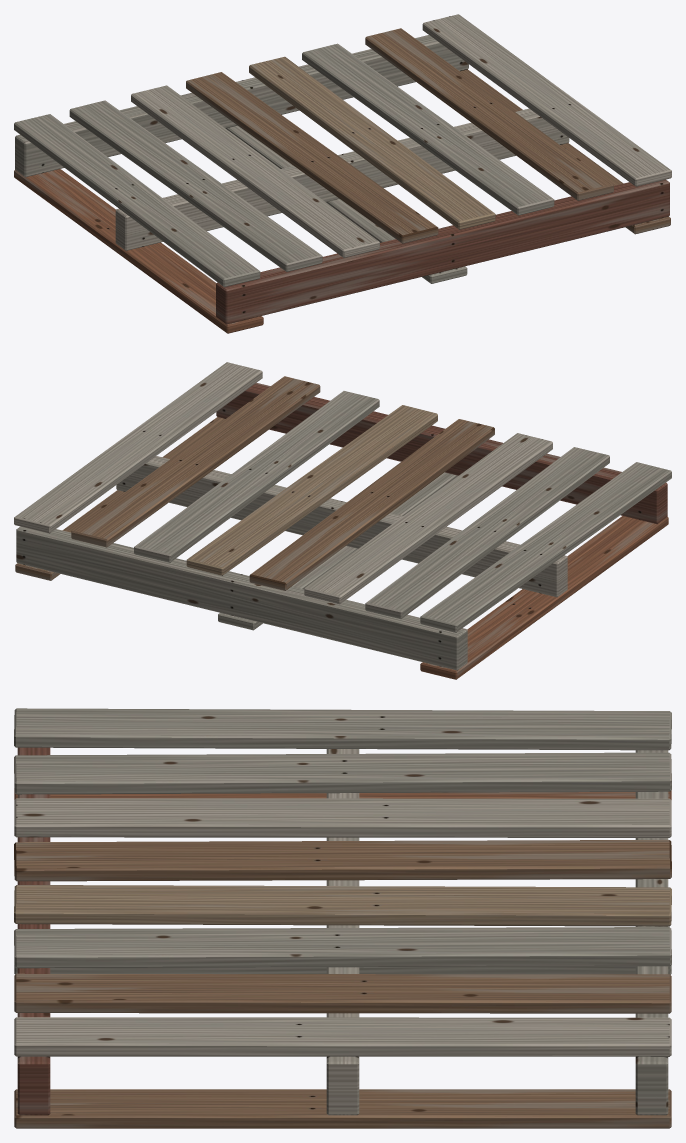
Rendered from pallet.glb.
3 views of the same model, one above another, from view 1: azimuth 30°, elevation 25°; view 2: azimuth 150°, elevation 25°; view 3: azimuth 270°, elevation 25° (orthographic). The views are drawn at different scales.
Parts seen in each view (by area): view 1: pallet; view 2: pallet; view 3: pallet.
Boxes of the visible parts, left/top/right/bottom form: pallet: left=14, top=14, right=671, bottom=333; pallet: left=14, top=362, right=671, bottom=679; pallet: left=14, top=708, right=671, bottom=1128.
Size of the model in its own units: 1.21 by 0.144 by 1.
Materials: 1 (1 with a texture image).
